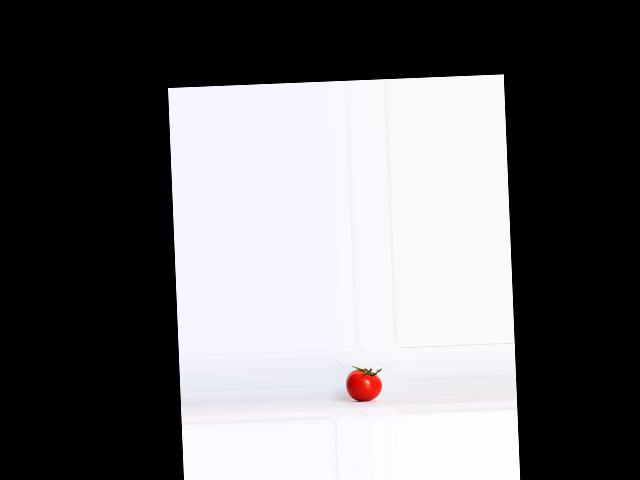tomato: (344, 368, 382, 402)
